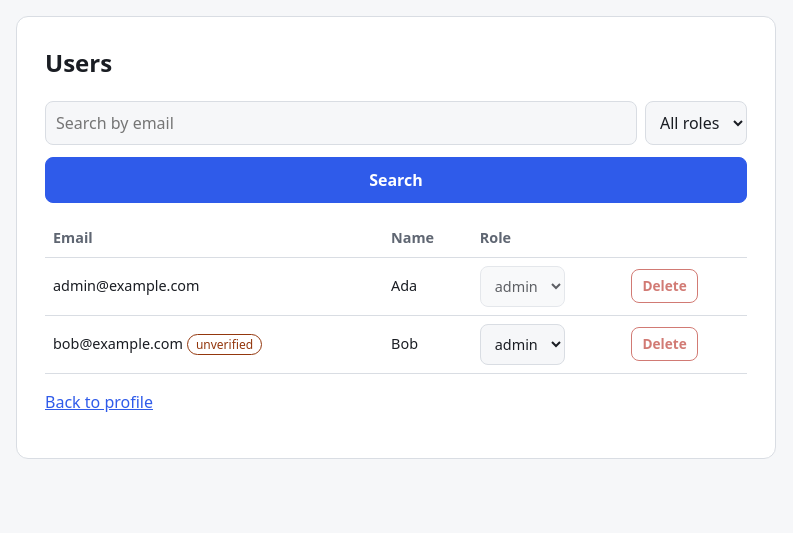
Test: admin page › shows the server reason when an action is refused
Select "user" in the dropdown named "Role for bob@example.com" at [522, 344], box [480,324,565,365]
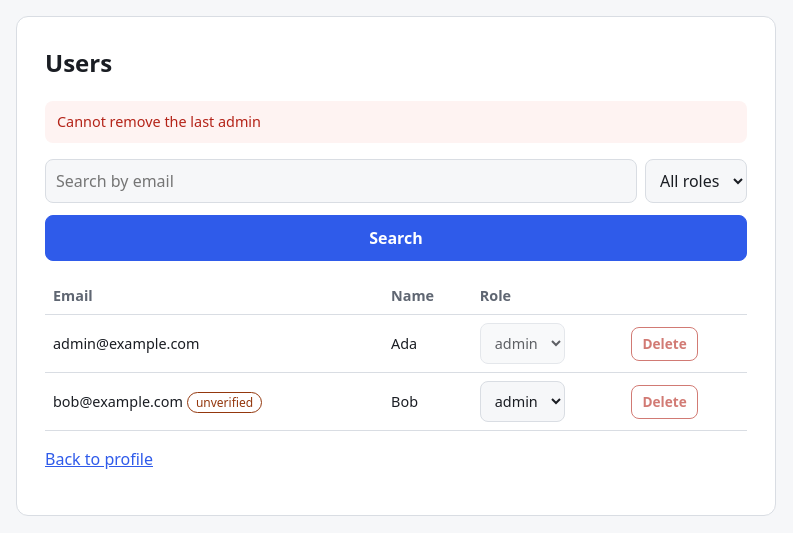
expect the message reads "Cannot remove the last admin": met, box [57,112,261,131]
